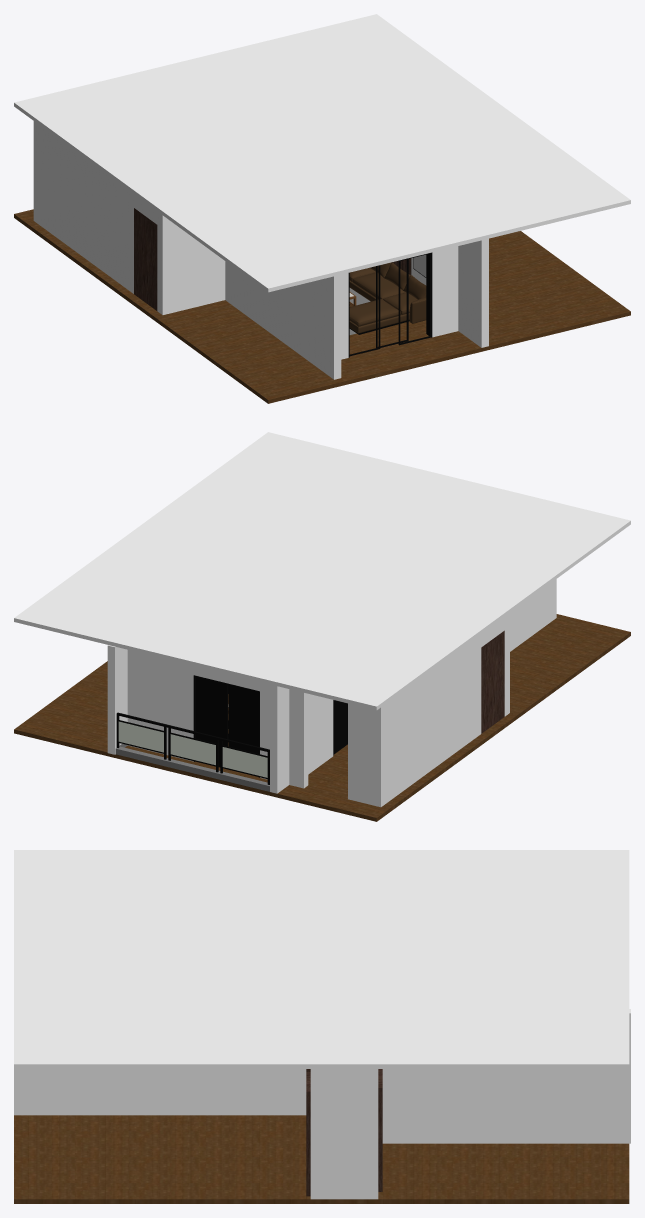
File: PKB2.fbx
3 renders of one model, top to bottom at view 1: azimuth 30°, elevation 25°; view 2: azimuth 150°, elevation 25°; view 3: azimuth 270°, elevation 25°, orthographic. The views are drawn at different scales.
Parts seen in each view (by area): view 1: PK2_69, PK2_68, PK2_65, PK2_35, PK2_42, PK2_13; view 2: PK2_69, PK2_68, PK2_65, PK2_13, PK2_66, PK2_42, PK2_67; view 3: PK2_69, PK2_65, PK2_68, PK2_45, PK2_44.
Boxes of the visible parts, x1,y1,x2,y2 form: PK2_69: (14,14,630,292); PK2_68: (33,121,488,379); PK2_65: (14,209,630,403); PK2_35: (349,262,426,333); PK2_42: (134,208,157,310); PK2_13: (348,252,432,357); PK2_69: (14,432,630,710); PK2_68: (107,579,556,807); PK2_65: (14,614,630,821); PK2_13: (193,675,347,777); PK2_66: (116,712,269,784); PK2_42: (481,630,504,733); PK2_67: (115,744,269,791); PK2_69: (14,850,629,1068); PK2_65: (14,1115,629,1203); PK2_68: (14,1009,630,1199); PK2_45: (306,1072,310,1196); PK2_44: (378,1069,382,1191).
Bounding box in the file's own units: 9882 × 3000 × 12022.
62 materials, 15 textured.
